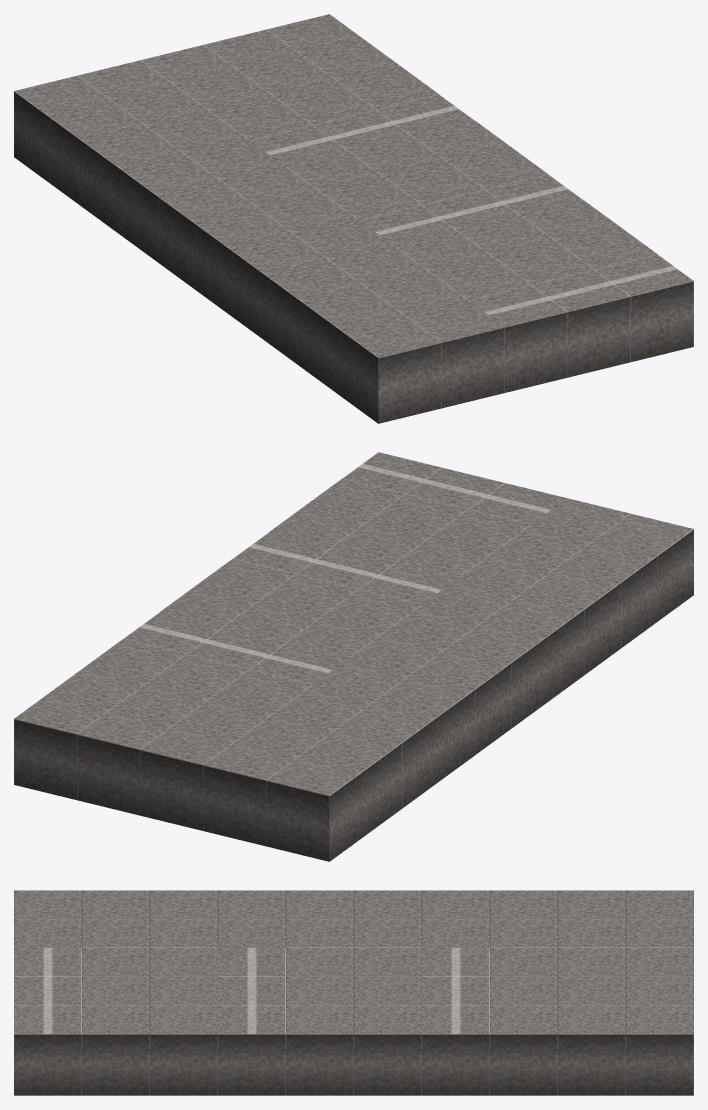
File: ParkingLot7.obj
3 views of the same model, one above another, from view 1: azimuth 30°, elevation 25°; view 2: azimuth 150°, elevation 25°; view 3: azimuth 270°, elevation 25° (orthographic). The views are drawn at different scales.
Parts seen in each view (by area): view 1: PLATFORM1; view 2: PLATFORM1; view 3: PLATFORM1.
Part boxes in pixels (x1,y1,x2,y2): PLATFORM1: [14, 14, 693, 423]; PLATFORM1: [14, 452, 693, 861]; PLATFORM1: [14, 890, 693, 1095].
Bounding box in the file's own units: 5 × 1 × 10.
